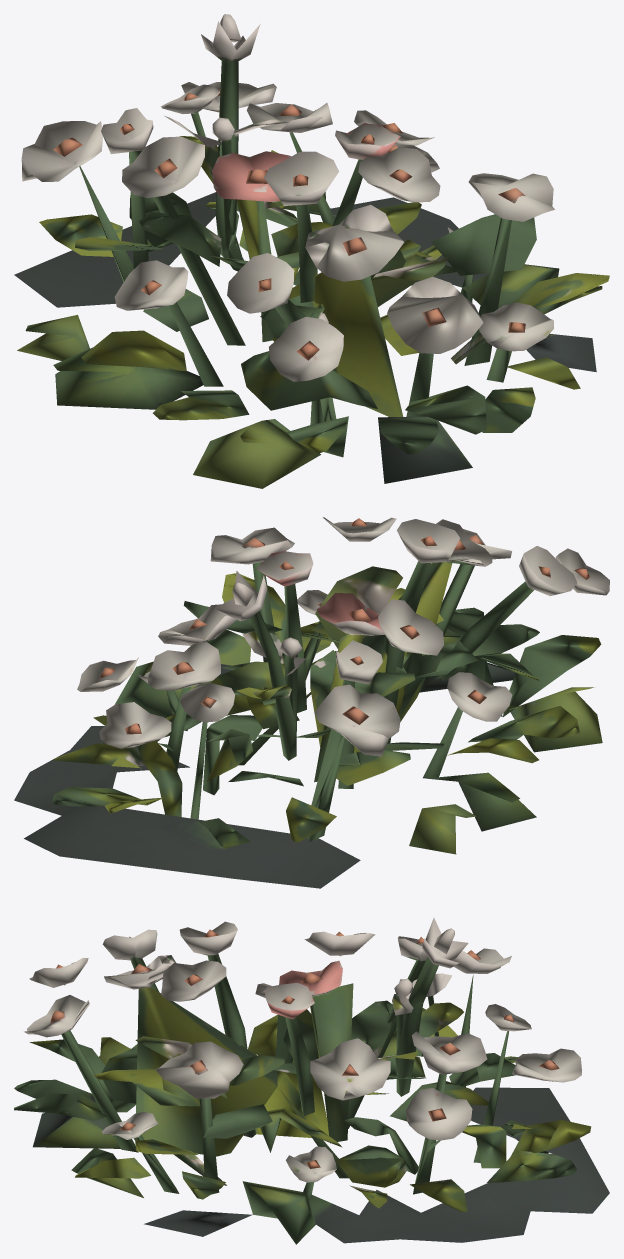
3 views of the same model, one above another, from view 1: azimuth 30°, elevation 25°; view 2: azimuth 150°, elevation 25°; view 3: azimuth 270°, elevation 25° (orthographic). The views are drawn at different scales.
Parts seen in each view (by area): view 1: tripo_node_f3a93d13-e11c-4b6e-bf6f-26f66fd50a86; view 2: tripo_node_f3a93d13-e11c-4b6e-bf6f-26f66fd50a86; view 3: tripo_node_f3a93d13-e11c-4b6e-bf6f-26f66fd50a86.
Part boxes in pixels (bbox=[...]): tripo_node_f3a93d13-e11c-4b6e-bf6f-26f66fd50a86: bbox=[14, 14, 609, 488]; tripo_node_f3a93d13-e11c-4b6e-bf6f-26f66fd50a86: bbox=[14, 517, 609, 888]; tripo_node_f3a93d13-e11c-4b6e-bf6f-26f66fd50a86: bbox=[14, 917, 609, 1244].
Bounding box in the file's own units: 0.7832 × 0.416 × 0.998.
1 material, 1 textured.
